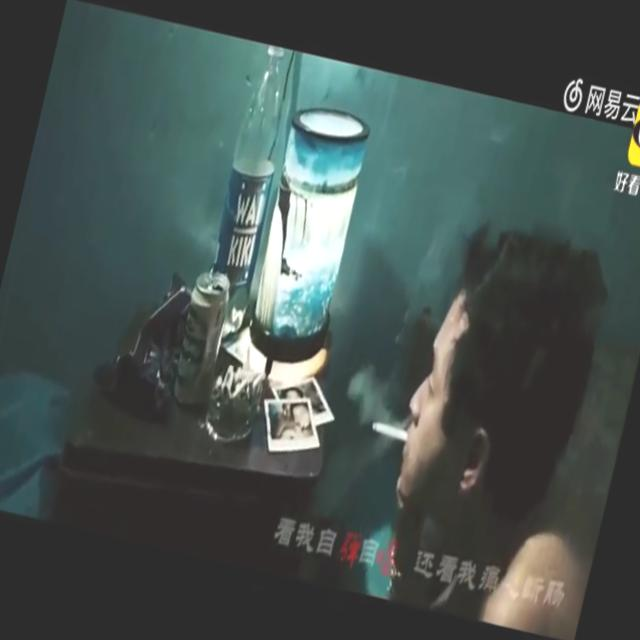smoke: (361, 403, 411, 455)
